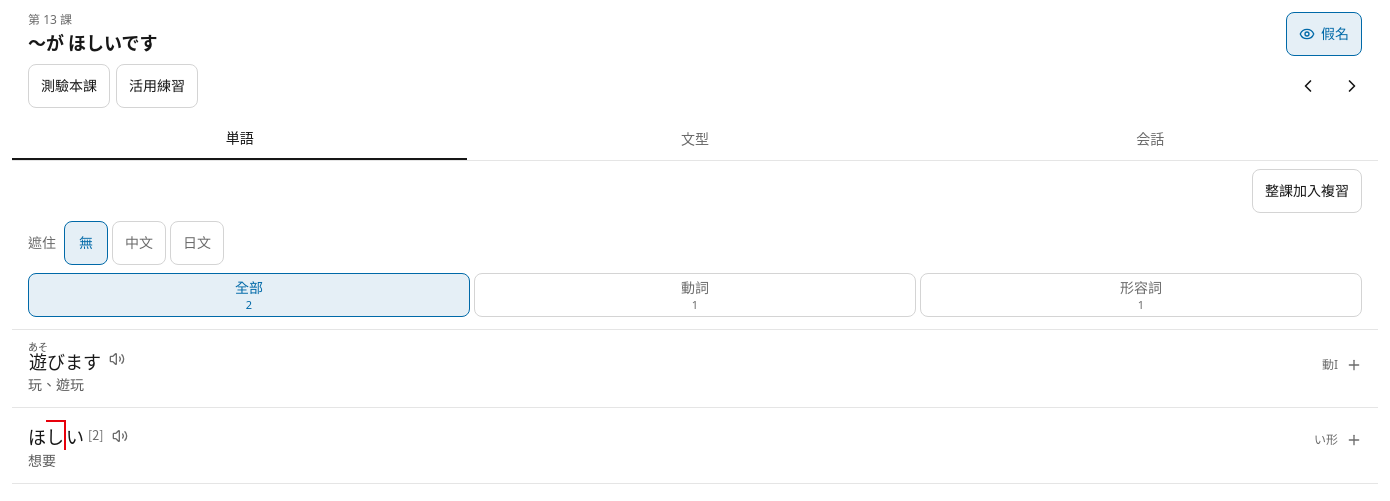
Test case: LessonDetail › 切換到文型分頁:顯示文型、隱藏単語
Expected: the text "玩、遊玩" is shown, x1=28 y1=375 x2=84 y2=394
Click the button "文型": (695, 138) x1=467 y1=116 x2=923 y2=160
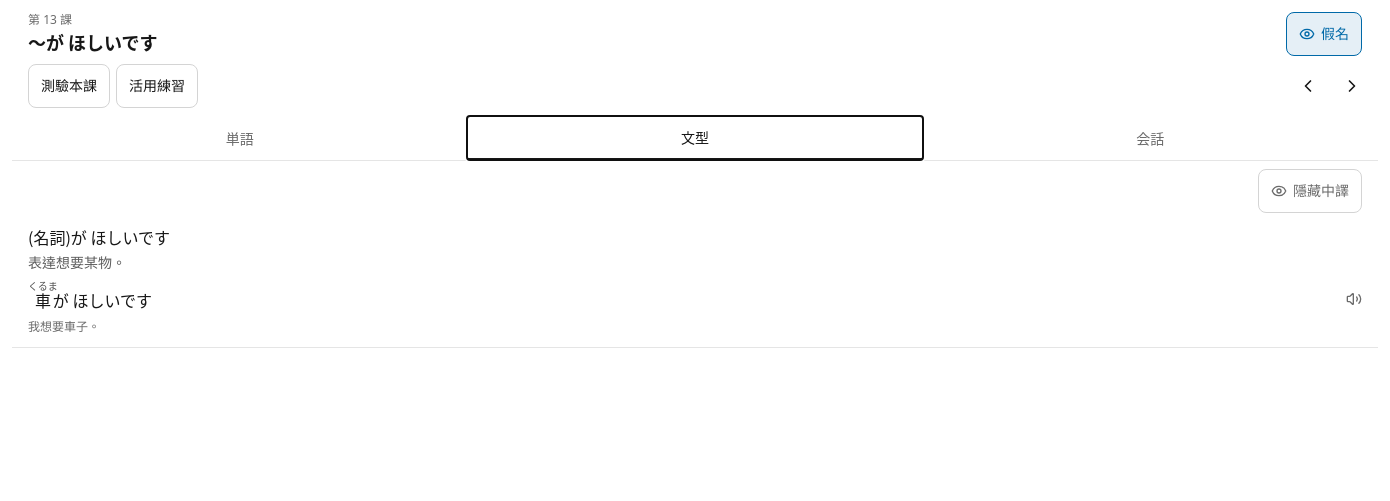
Now the heading "(名詞)が ほしいです" is shown, box x1=28 y1=225 x2=170 y2=249
Now the text "我想要車子。" is shown, box x1=28 y1=318 x2=100 y2=335
Now the text "玩、遊玩" is gone
